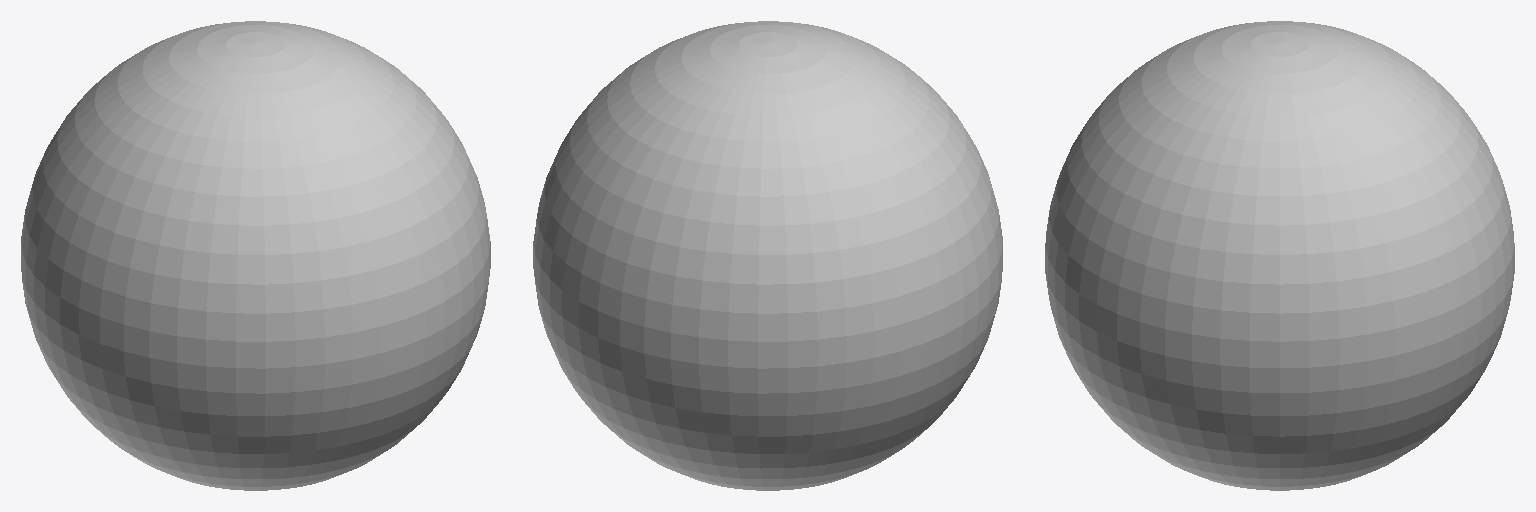
Rendered from esfera1.obj.
3 renders of one model, left to right at view 1: azimuth 30°, elevation 25°; view 2: azimuth 150°, elevation 25°; view 3: azimuth 270°, elevation 25°, orthographic.
Bounding box in the file's own units: 7.98 × 8 × 7.98.